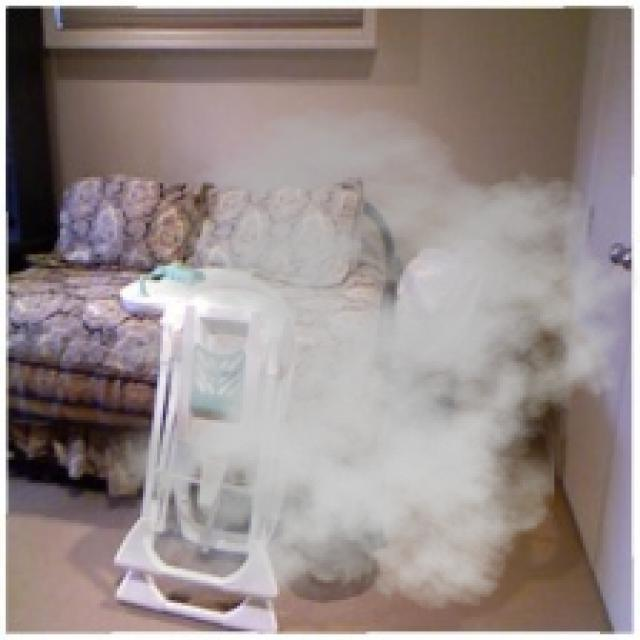Smoke: (82, 106, 638, 628)
